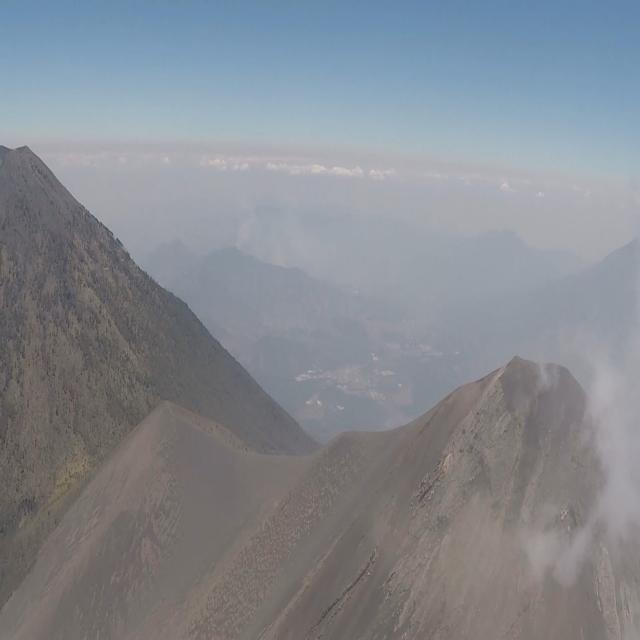Summit: (297, 325, 640, 640)
